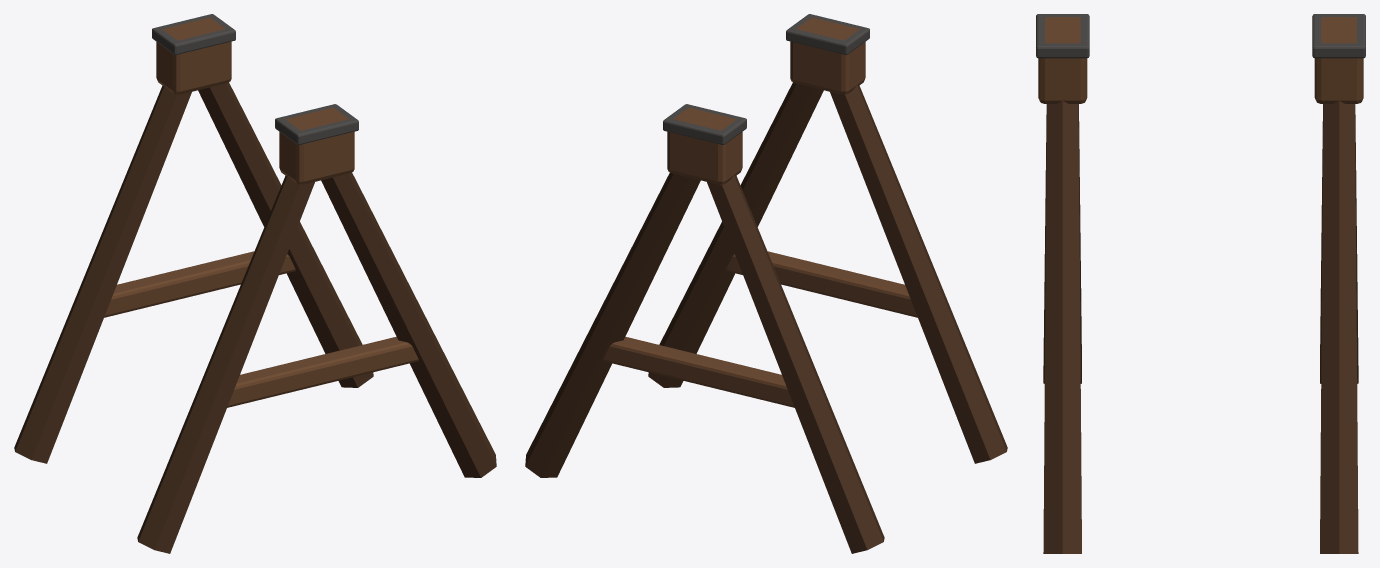
File: roue_support.glb
3 views of the same model, side by side, from view 1: azimuth 30°, elevation 25°; view 2: azimuth 150°, elevation 25°; view 3: azimuth 270°, elevation 25° (orthographic). The views are drawn at different scales.
Parts seen in each view (by area): view 1: roue_support; view 2: roue_support; view 3: roue_support.
Boxes of the visible parts, left/top/right/bottom form: roue_support: left=14, top=14, right=496, bottom=553; roue_support: left=525, top=14, right=1007, bottom=553; roue_support: left=1036, top=14, right=1365, bottom=553.
Size of the model in its own units: 2.08 by 2.19 by 1.48.
